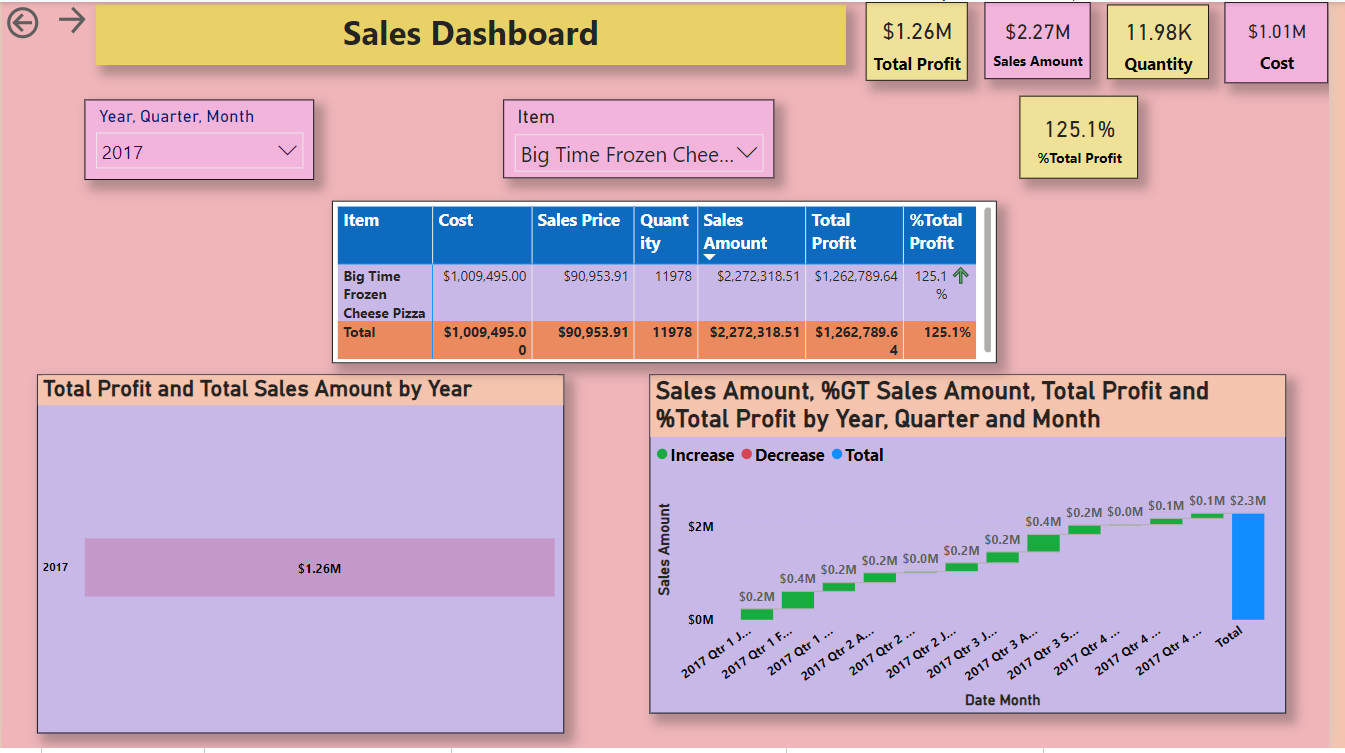

The page's visual inventory and layout, read from the dashboard file:
{"tool":"powerbi","page":{"name":"Sales Dashboard","canvas":[1280,720],"ordinal":1},"visuals":[{"type":"slicer","fields":{"Values":["Sales_Details.Item"]},"box":[882,80,262,76],"z":0},{"type":"card","fields":{"Values":["ImpMeasures.Profits%"]},"box":[1166,76,114,80],"z":1000},{"type":"card","fields":{"Values":["ImpMeasures.Total Profit Margin"]},"box":[834,0,98,76],"z":2000},{"type":"card","fields":{"Values":["ImpMeasures.Cost"]},"box":[1180,0,100,78],"z":3000},{"type":"textbox","box":[90,2,724,58],"z":4000},{"type":"card","fields":{"Values":["ImpMeasures.Revenue"]},"box":[948,0,102,74],"z":5000},{"type":"waterfallChart","fields":{"Category":["Date.Date.Variation.Date Hierarchy.Year","Date.Date.Variation.Date Hierarchy.Quarter","Date.Date.Variation.Date Hierarchy.Month"],"Y":["ImpMeasures.Sales Amount"]},"box":[640,410,614,292],"z":6000},{"type":"actionButton","box":[0,0,100,40],"z":7000},{"type":"card","fields":{"Values":["ImpMeasures.Quantity"]},"box":[1066,2,98,72],"z":8000},{"type":"funnel","fields":{"Y":["ImpMeasures.Profits"],"Category":["Date.Date.Variation.Date Hierarchy.Year","Date.Date.Variation.Date Hierarchy.Quarter","Date.Date.Variation.Date Hierarchy.Month"]},"box":[642,174,612,216],"z":9000},{"type":"slicer","fields":{"Values":["Date.Date.Variation.Date Hierarchy.Year","Date.Date.Variation.Date Hierarchy.Quarter","Date.Date.Variation.Date Hierarchy.Month"]},"box":[639.4,77.2,222,77.2],"z":10000},{"type":"actionButton","box":[50,0,100,35],"z":11000},{"type":"pivotTable","fields":{"Values":["ImpMeasures.Cost","Sum(Sales_Details.Sales Price)","ImpMeasures.Quantity","ImpMeasures.Revenue","ImpMeasures.Profits","ImpMeasures.Profits%"],"Rows":["Sales_Details.Item"]},"box":[24,104,594,598],"z":12000}]}

Visuals, with their boxes on the page's 1280x720 design canvas (x1, y1, x2, y2). These are canvas units, not pixel positions in the 1345x753 screenshot, which may show the page scaled, cropped or inside an application window:
slicer - Sales_Details.Item: (x1=882, y1=80, x2=1144, y2=156)
card - ImpMeasures.Profits%: (x1=1166, y1=76, x2=1280, y2=156)
card - ImpMeasures.Total Profit Margin: (x1=834, y1=0, x2=932, y2=76)
card - ImpMeasures.Cost: (x1=1180, y1=0, x2=1280, y2=78)
textbox: (x1=90, y1=2, x2=814, y2=60)
card - ImpMeasures.Revenue: (x1=948, y1=0, x2=1050, y2=74)
waterfallChart - Date.Date.Variation.Date Hierarchy.Year x Date.Date.Variation.Date Hierarchy.Quarter: (x1=640, y1=410, x2=1254, y2=702)
actionButton: (x1=0, y1=0, x2=100, y2=40)
card - ImpMeasures.Quantity: (x1=1066, y1=2, x2=1164, y2=74)
funnel - ImpMeasures.Profits x Date.Date.Variation.Date Hierarchy.Year: (x1=642, y1=174, x2=1254, y2=390)
slicer - Date.Date.Variation.Date Hierarchy.Year x Date.Date.Variation.Date Hierarchy.Quarter: (x1=639, y1=77, x2=861, y2=154)
actionButton: (x1=50, y1=0, x2=150, y2=35)
pivotTable - ImpMeasures.Cost x Sum(Sales_Details.Sales Price): (x1=24, y1=104, x2=618, y2=702)
